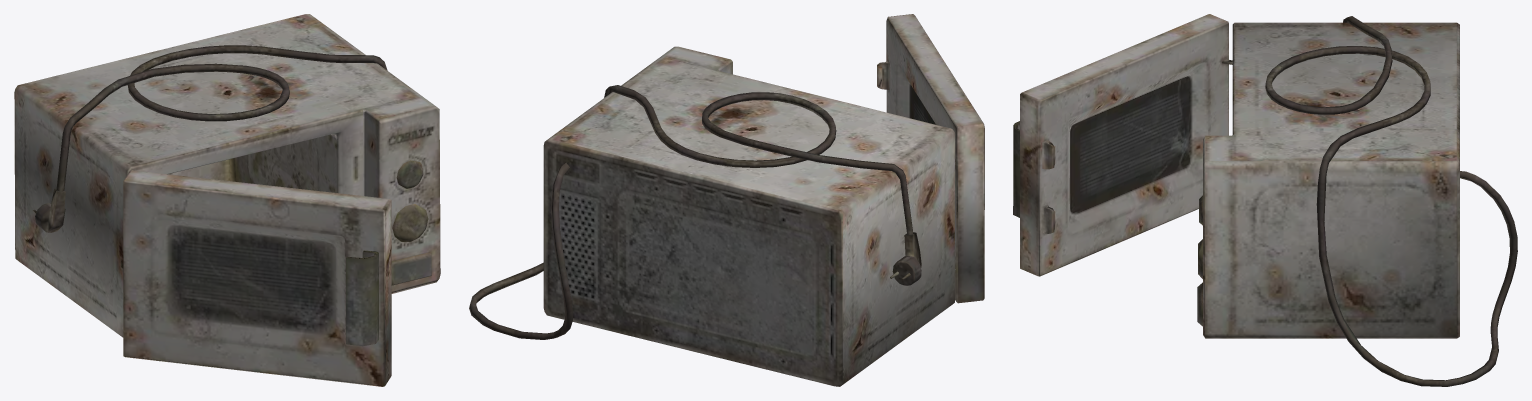
The model's file is microwave_c.glb.
The picture shows the model from 3 angles, left to right: view 1: azimuth 30°, elevation 25°; view 2: azimuth 150°, elevation 25°; view 3: azimuth 270°, elevation 25°; orthographic projection.
Parts seen in each view (by area): view 1: Microwave_c; view 2: Microwave_c; view 3: Microwave_c.
Part boxes in pixels (bbox=[...]): Microwave_c: bbox=[14, 14, 440, 386]; Microwave_c: bbox=[469, 14, 984, 386]; Microwave_c: bbox=[1013, 14, 1517, 386].
Size of the model in its own units: 0.592 by 0.2844 by 0.6474.
1 material, 1 textured.
